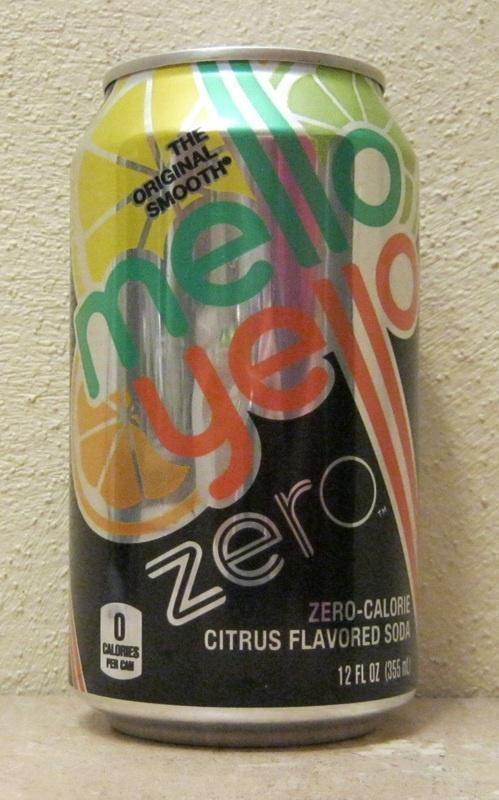tin can: (66, 44, 422, 752)
